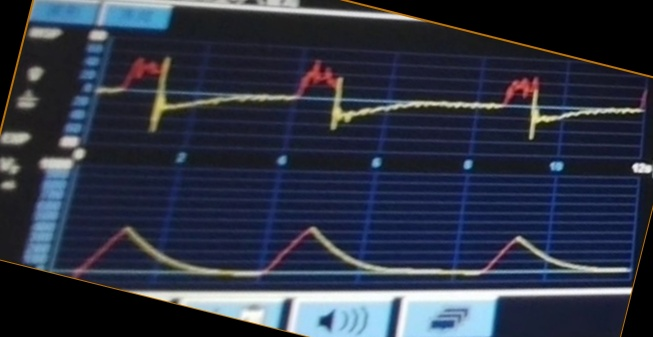Accumulation Flow: (109, 50, 574, 153)
Volume: (74, 200, 621, 283)
